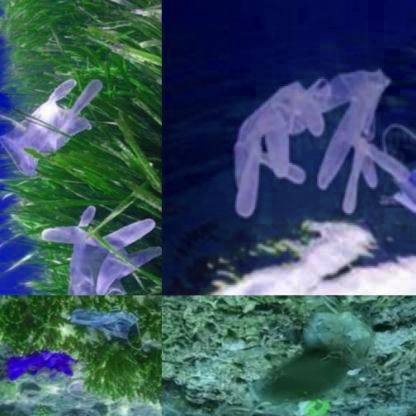Mask: (217, 296, 373, 416), (64, 309, 146, 349)
glove: (234, 62, 334, 218), (310, 62, 407, 216), (0, 71, 112, 181), (40, 197, 161, 295), (8, 345, 81, 382)
